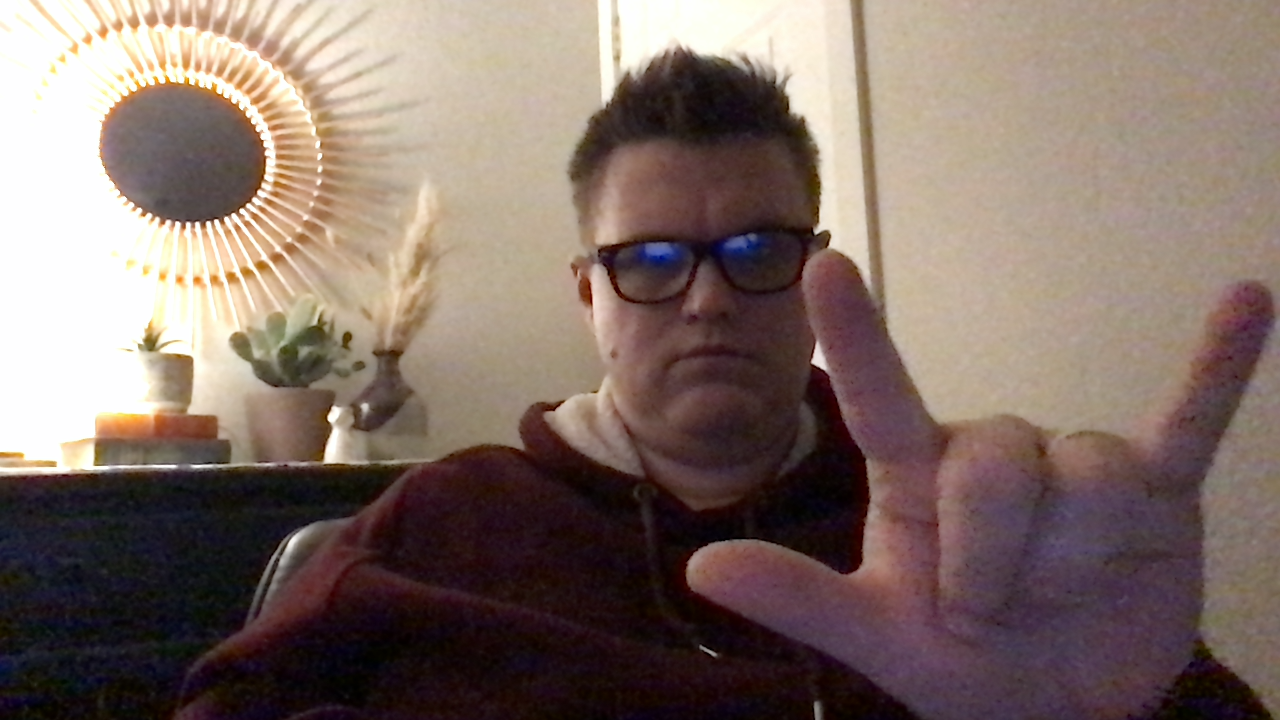iloveyou: (683, 234, 1280, 720)
